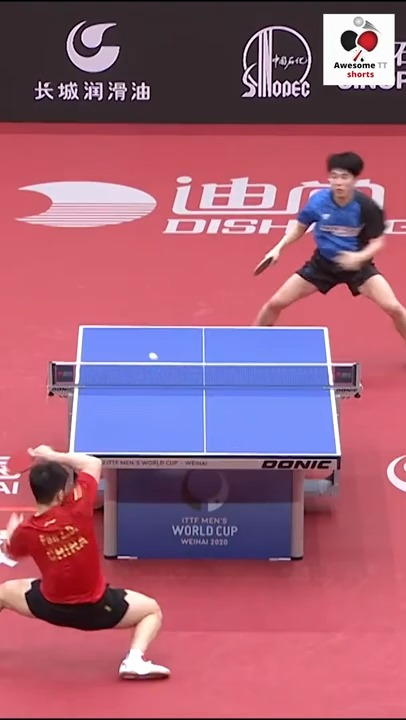Ball: (148, 350, 159, 361)
